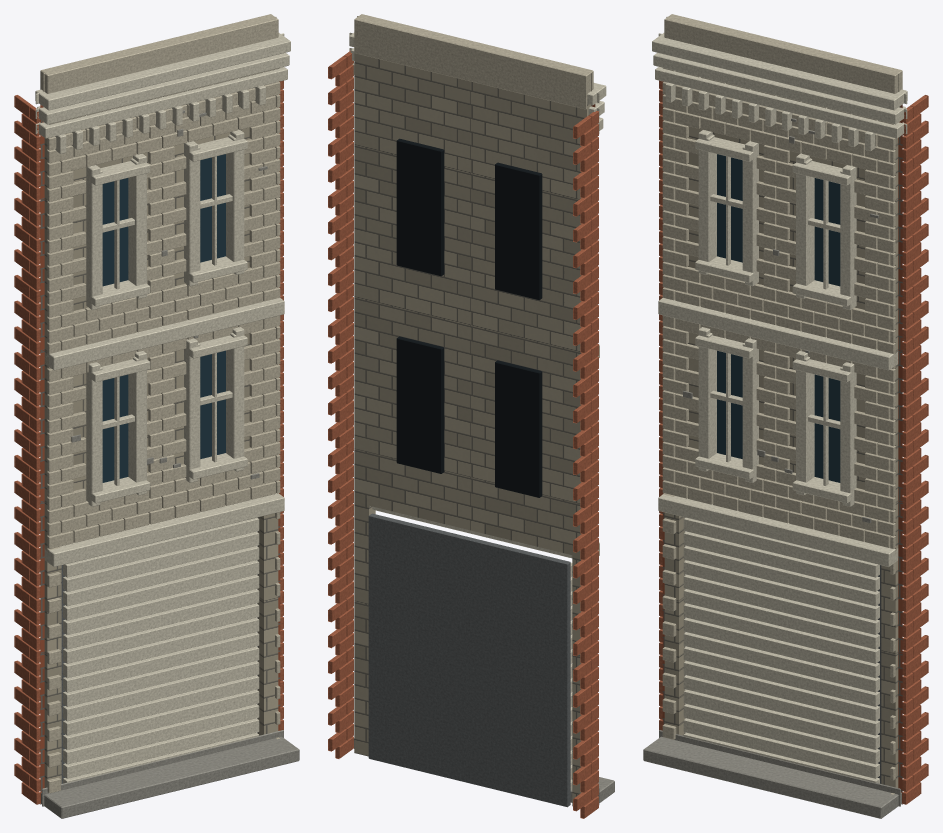
Rendered from WHSE20_lod0.glb.
3 renders of one model, left to right at view 1: azimuth 30°, elevation 25°; view 2: azimuth 150°, elevation 25°; view 3: azimuth 330°, elevation 25°, orthographic.
Visible parts, largest first — view 1: WHSE20_FRONT_LOD0; view 2: WHSE20_FRONT_LOD0; view 3: WHSE20_FRONT_LOD0.
Boxes of the visible parts, x1=… form: WHSE20_FRONT_LOD0: x1=14, y1=14, x2=299, y2=818; WHSE20_FRONT_LOD0: x1=328, y1=14, x2=614, y2=818; WHSE20_FRONT_LOD0: x1=643, y1=14, x2=928, y2=818.
Size of the model in its own units: 3.44 by 9.66 by 1.02.
13 materials, 11 textured.
